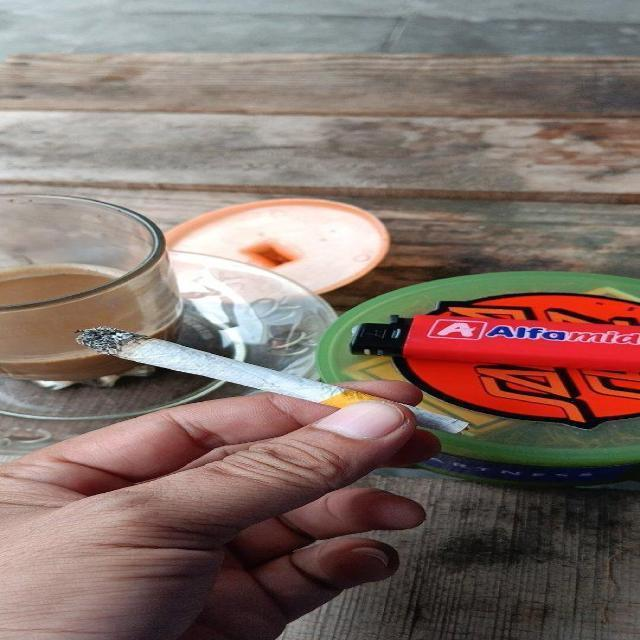rokok: (77, 320, 470, 438)
